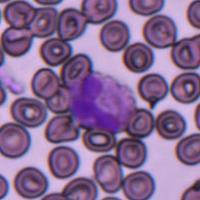E: (68, 71, 134, 133)
